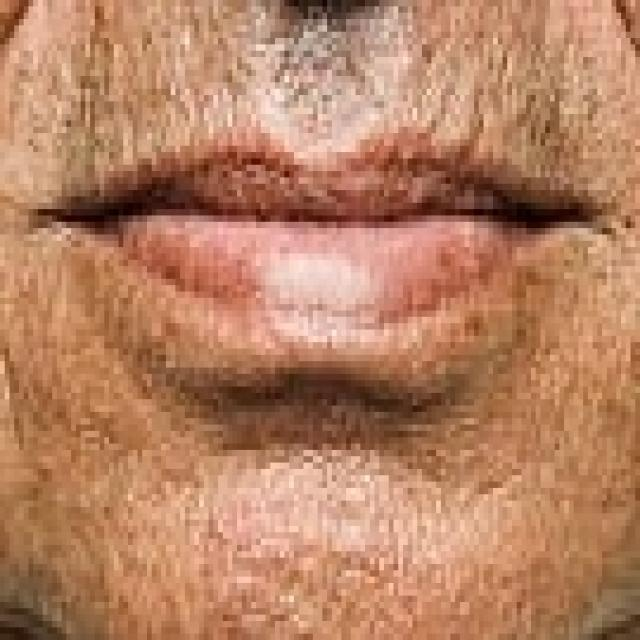closed-mouth: (46, 128, 590, 316)
